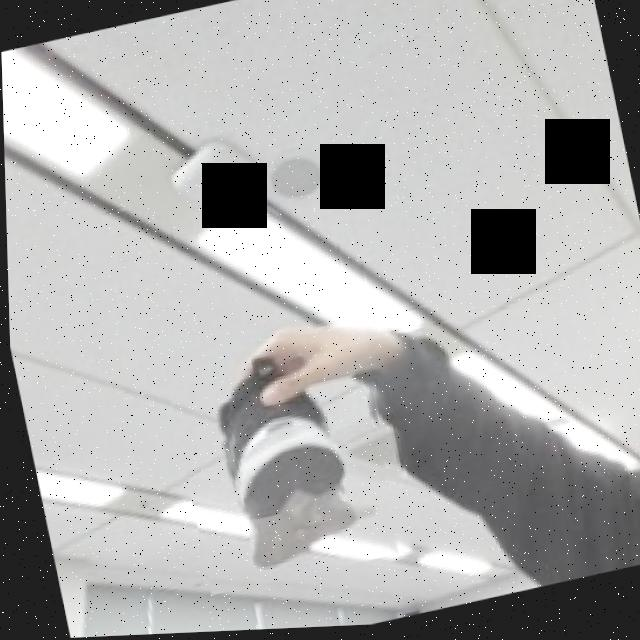shoe: (157, 305, 409, 598)
